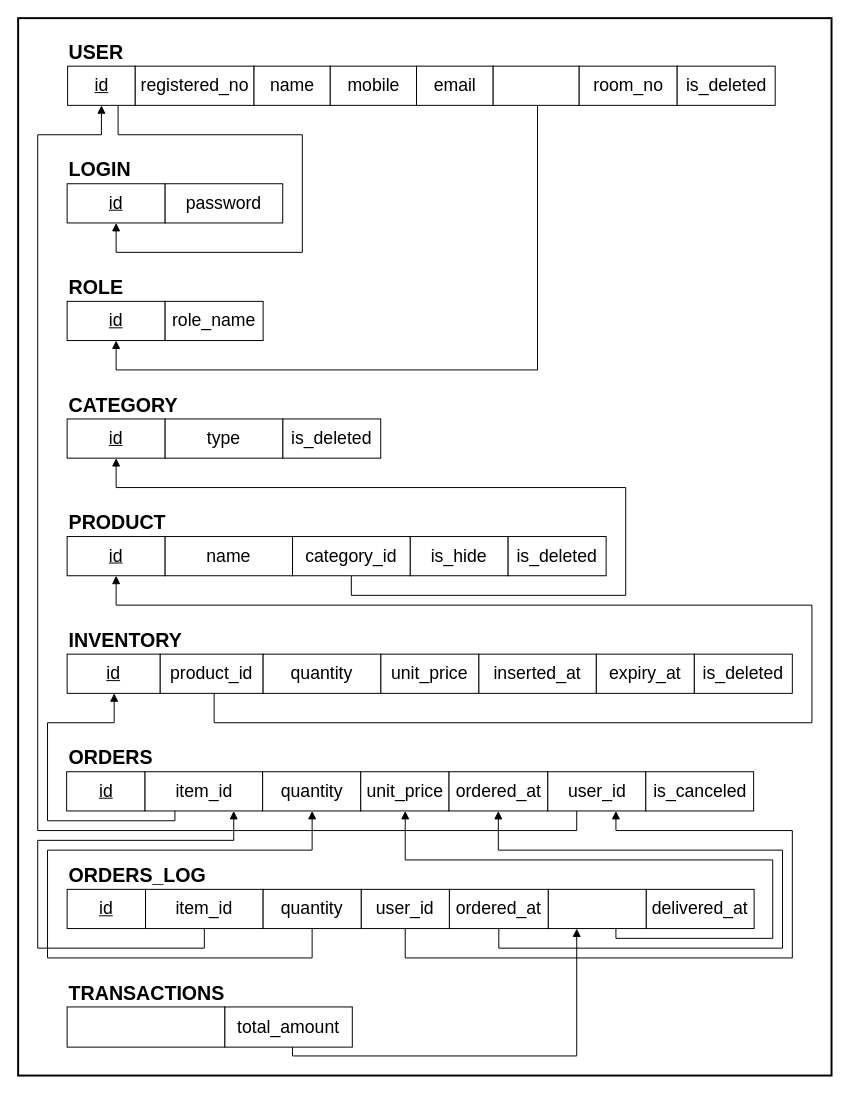
Some shapes in this 849 by 1093 pixel diagram are drawn without their labels. Each missing label, with the box of its shape:
role_id: (492, 65, 579, 105)
total_price: (547, 888, 646, 929)
transaction_date: (66, 1006, 225, 1047)
